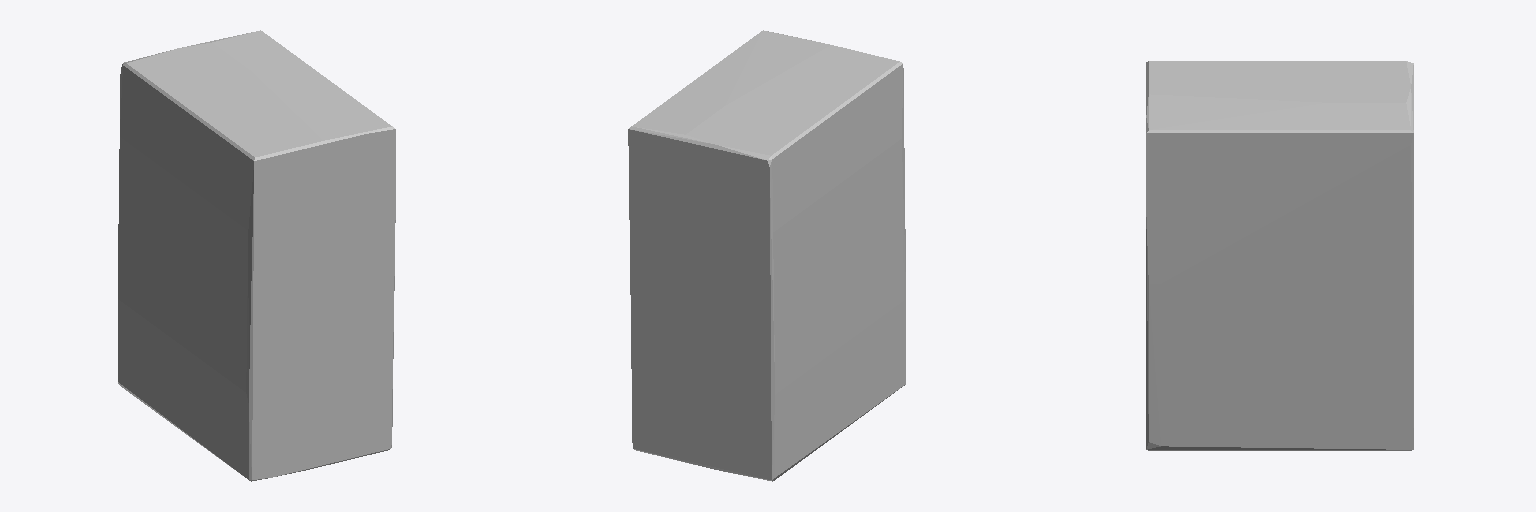
3 renders of one model, left to right at view 1: azimuth 30°, elevation 25°; view 2: azimuth 150°, elevation 25°; view 3: azimuth 270°, elevation 25°, orthographic.
Parts seen in each view (by area): view 1: convex_0; view 2: convex_0; view 3: convex_0.
Part boxes in pixels (x1,y1,x2,y2): convex_0: (118,30,395,481); convex_0: (628,30,905,481); convex_0: (1146,61,1413,450).
Bounding box in the file's own units: 0.4566 × 0.9738 × 0.7253.